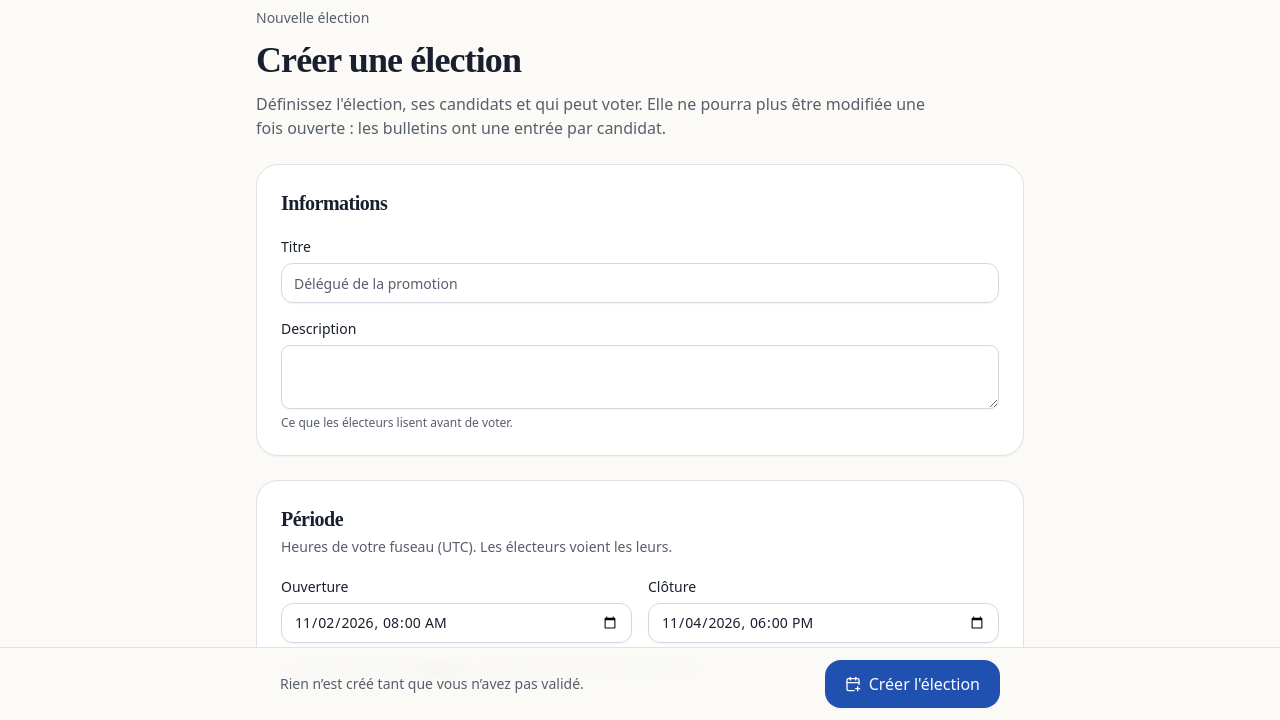
Test: the period › refuses an end before the start
In the field labelled "Titre": (640, 283) [281,263,999,303], type "  Budget  "
In the text box labelled "Description": (640, 377) [281,345,999,409], type "Où va l’argent"
(page scrolled)
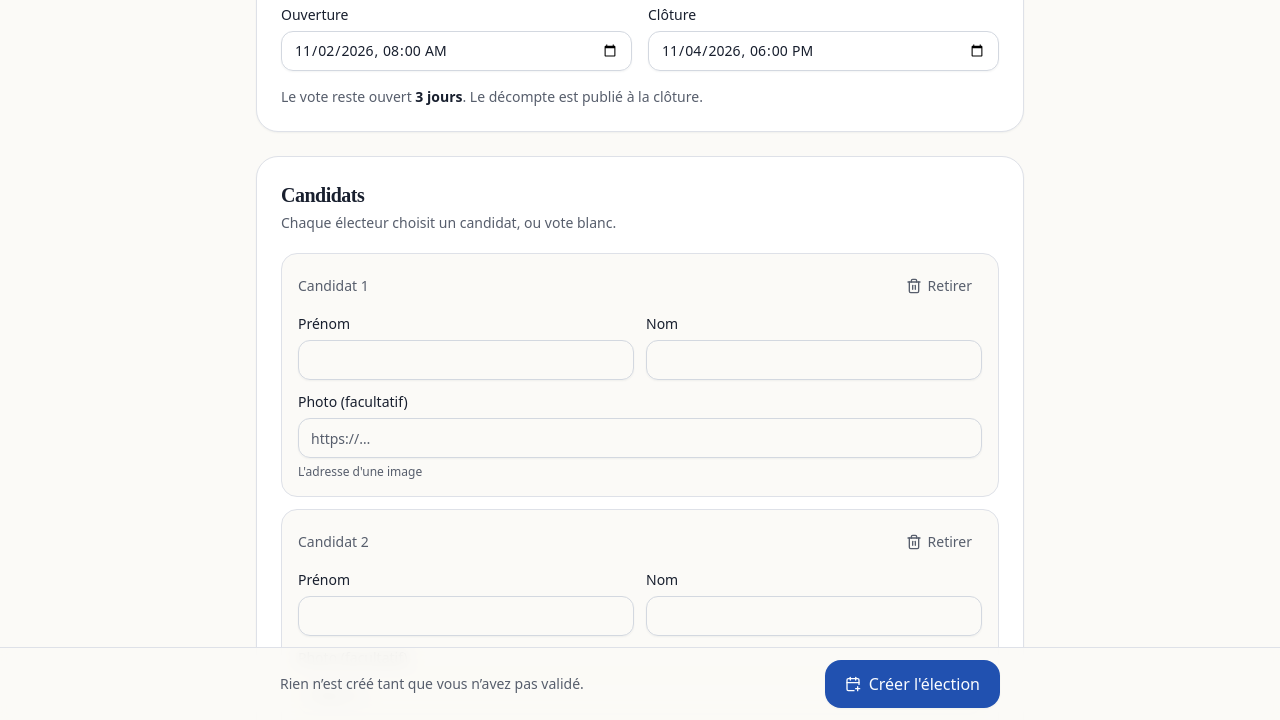
In the 1st field labelled "Prénom": (466, 360) [298,340,634,380], type "Ada"
In the 1st field labelled "Nom": (814, 360) [646,340,982,380], type "Lovelace"
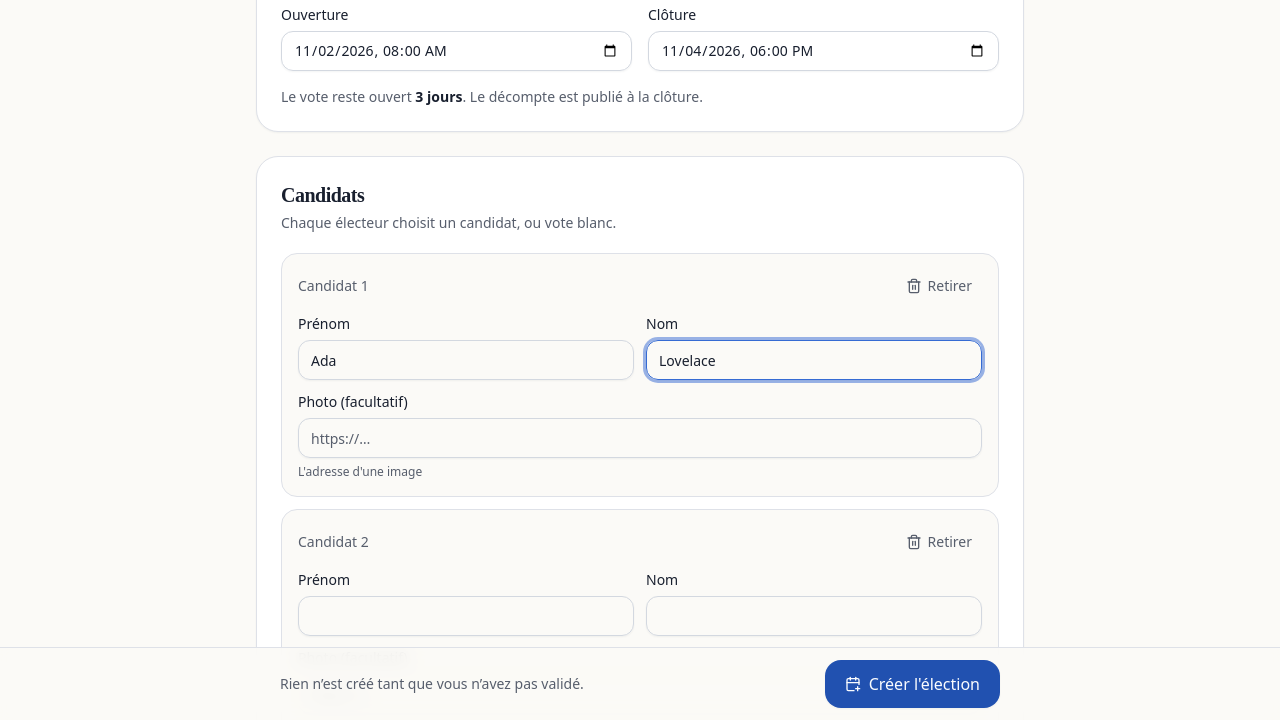
In the 2nd field labelled "Prénom": (466, 616) [298,596,634,636], type "Alan"
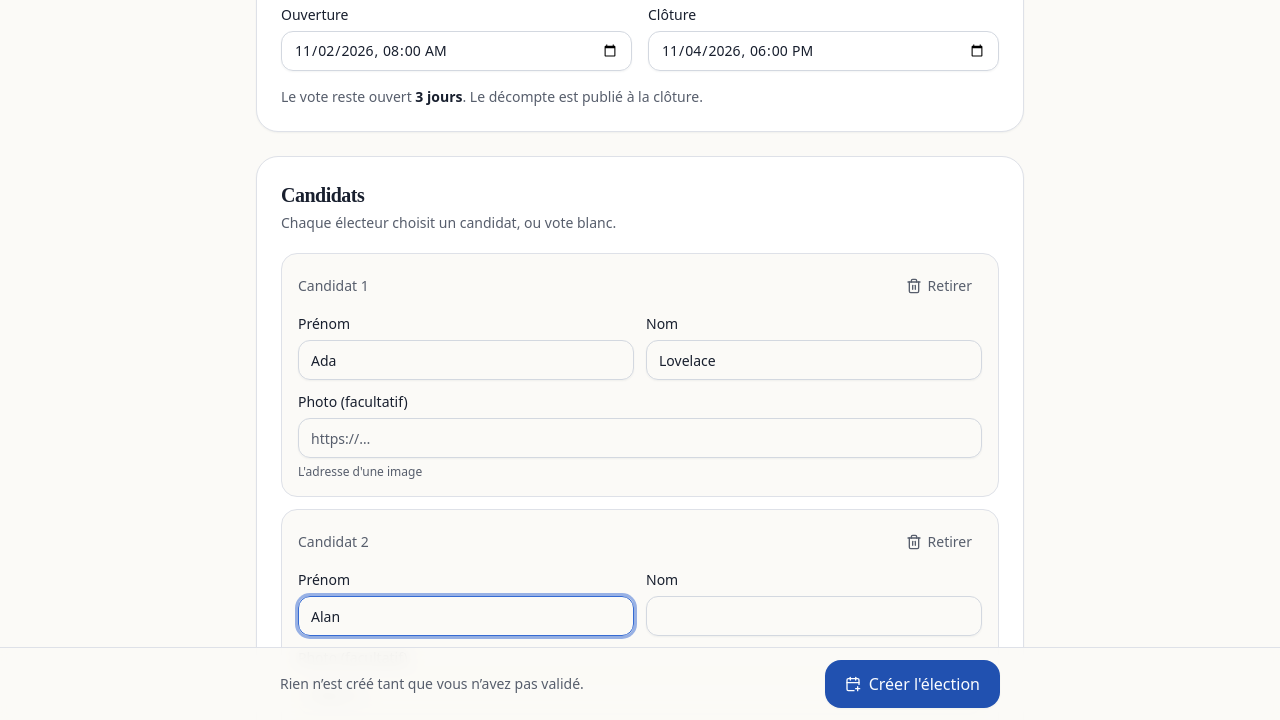
In the 2nd field labelled "Nom": (814, 616) [646,596,982,636], type "Turing"
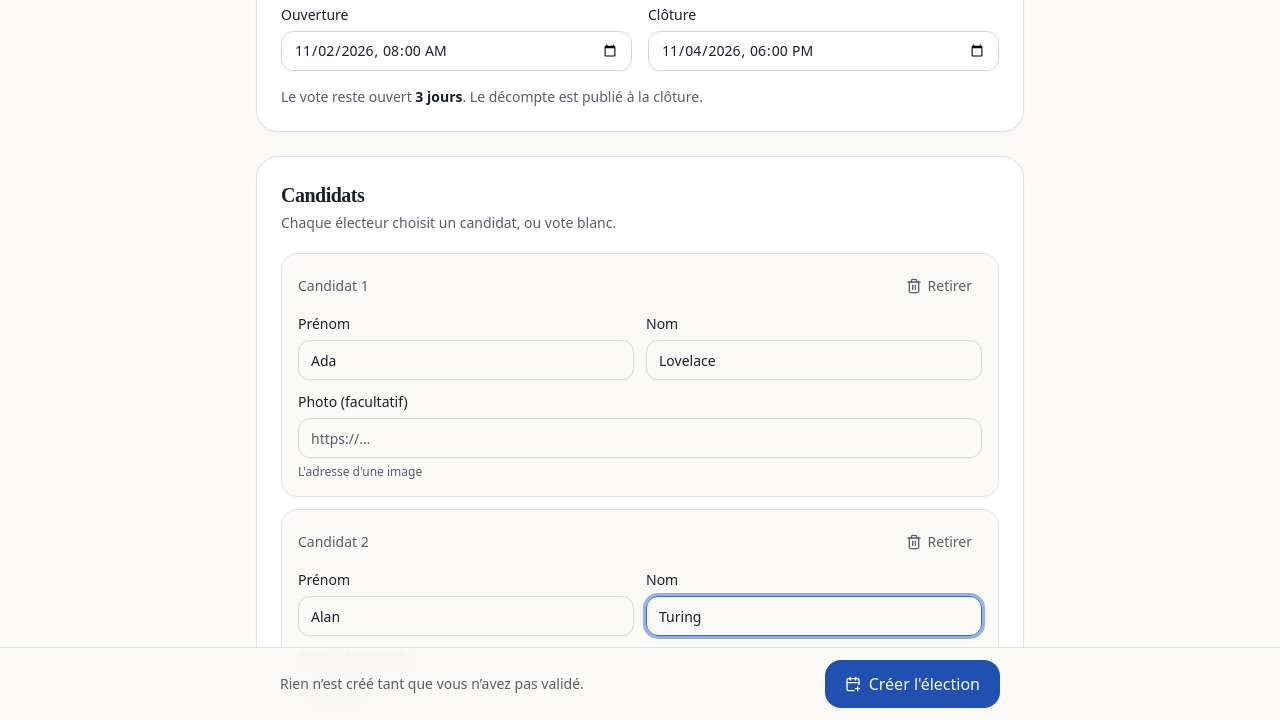
Replace the text in the field labelled "Clôture" with "2000-01-01T10:00": (824, 51) [648,31,999,71]
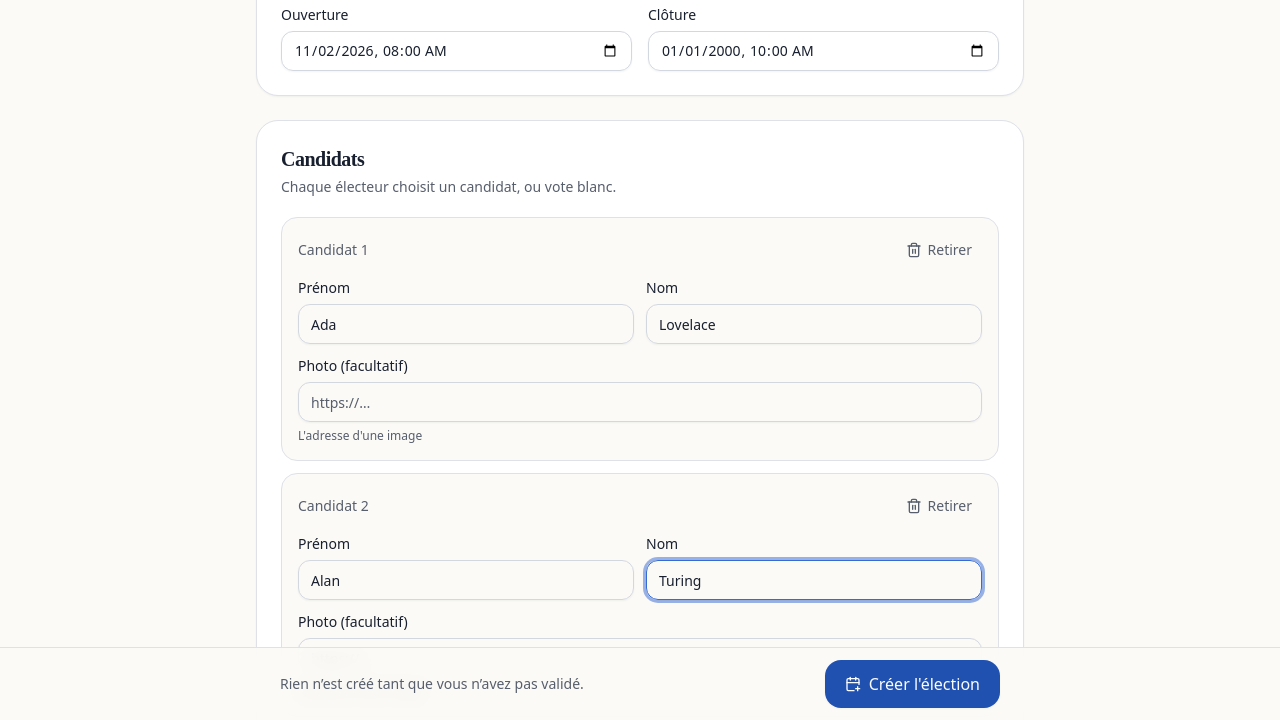
Click the button "Créer l'élection": (912, 684) [825,660,1000,708]
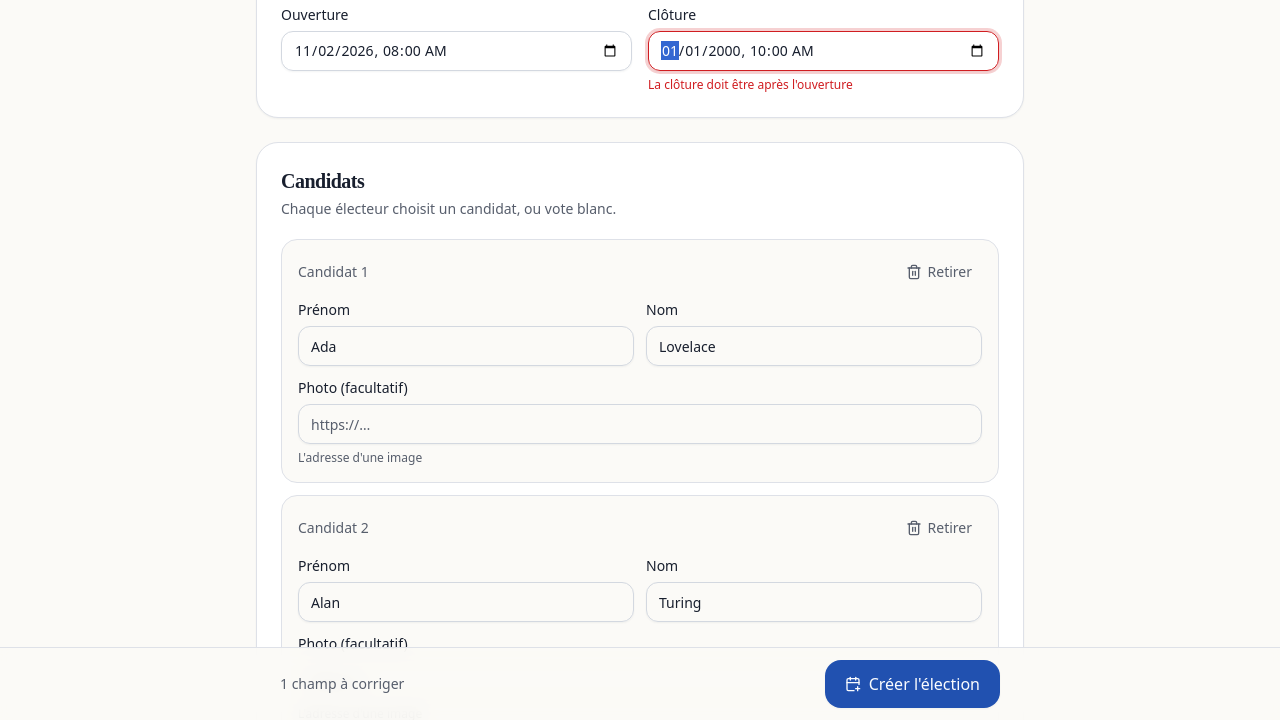
Check: the text "La clôture doit être après l'ouverture" is shown, box [648,76,853,93]
